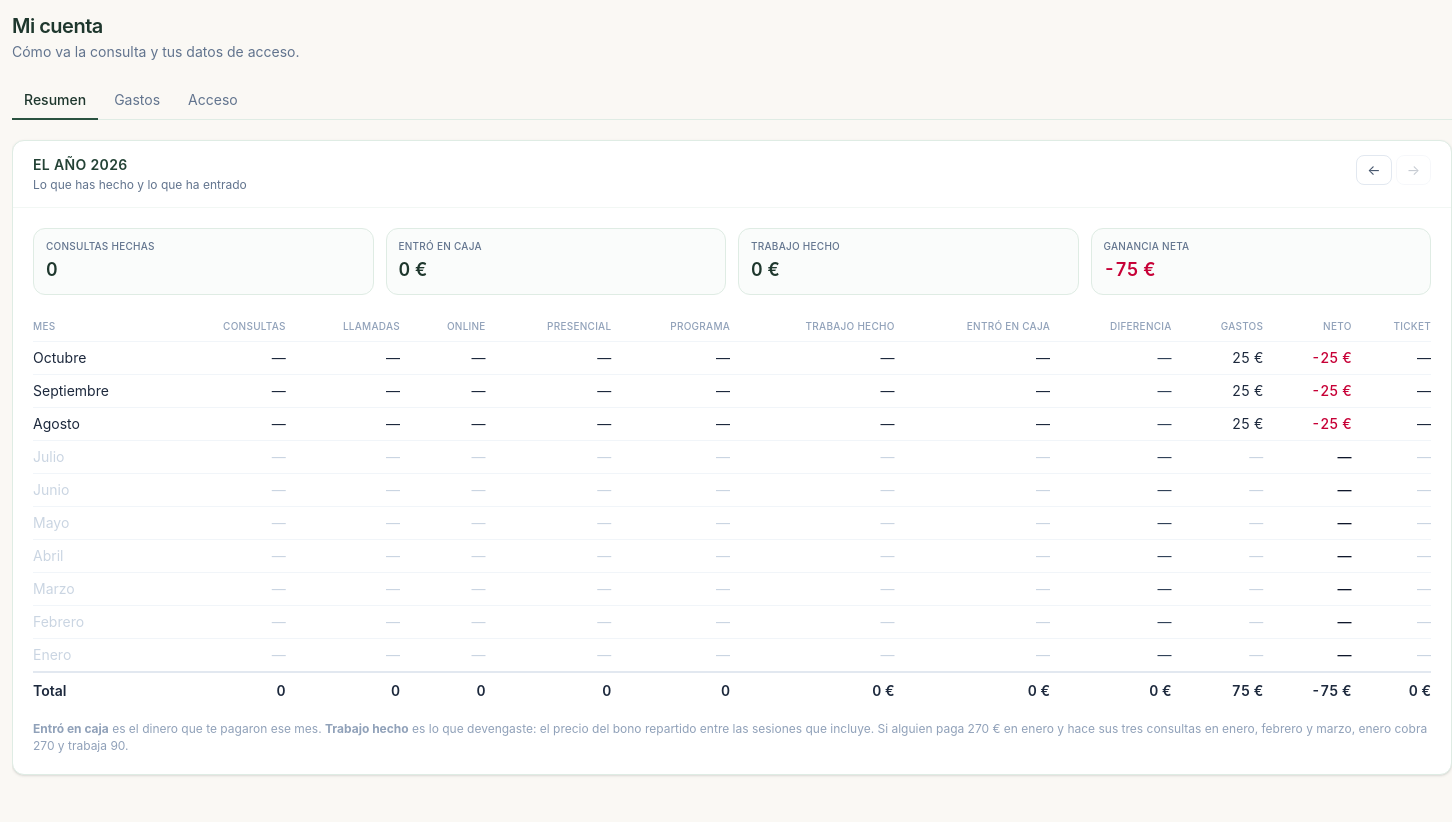
Test: Los gastos fijos › se dan de baja en vez de borrarse
Click the button "Gastos". click: click(137, 101)
box: top-left (102, 82), bottom-right (172, 120)
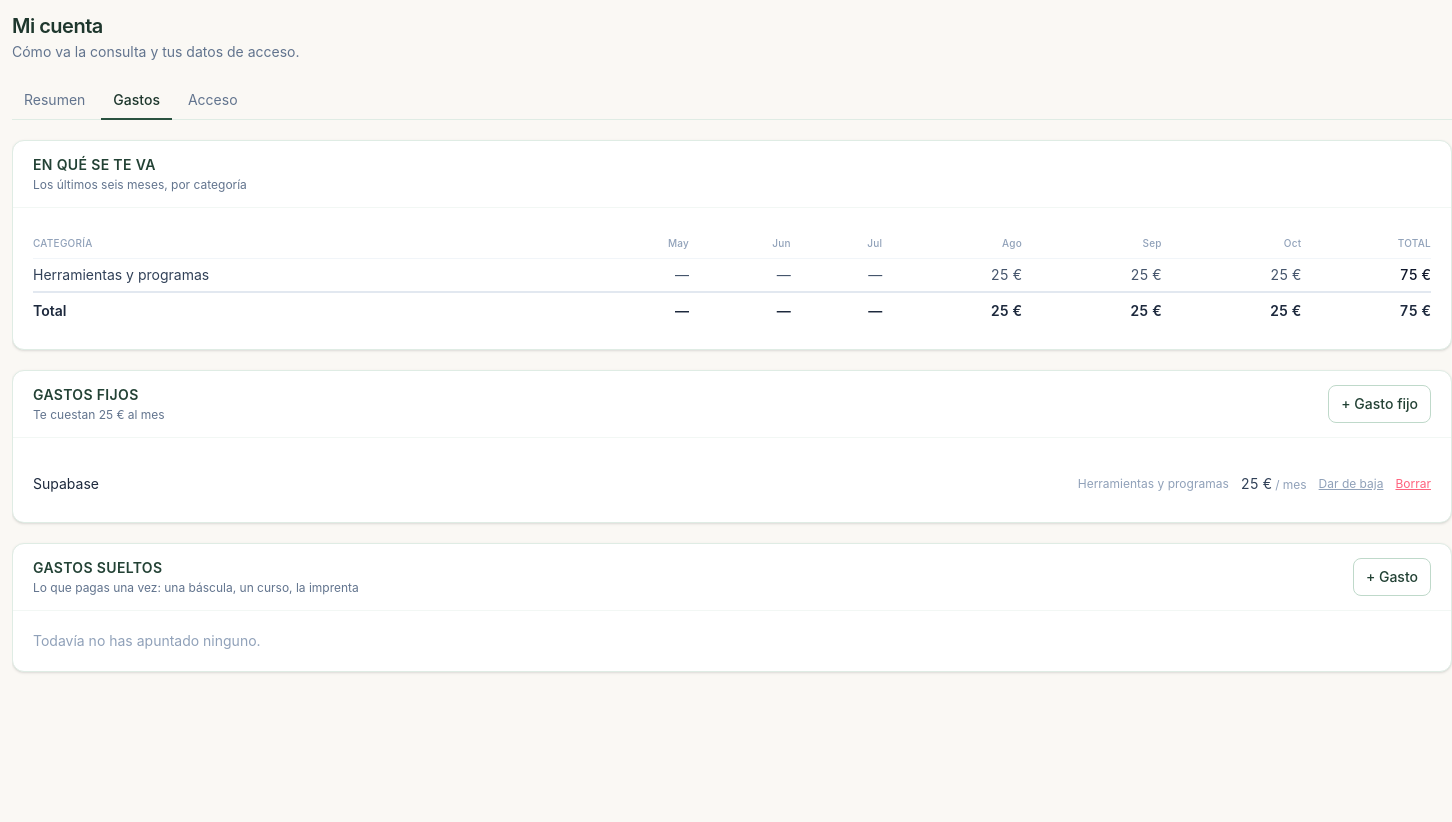
Now the button "Dar de baja" is shown, box top-left (1319, 476), bottom-right (1384, 492)
